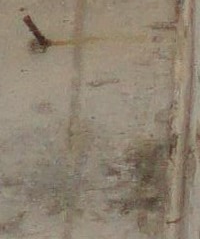Exposed reinforcement: (22, 14, 47, 46)
